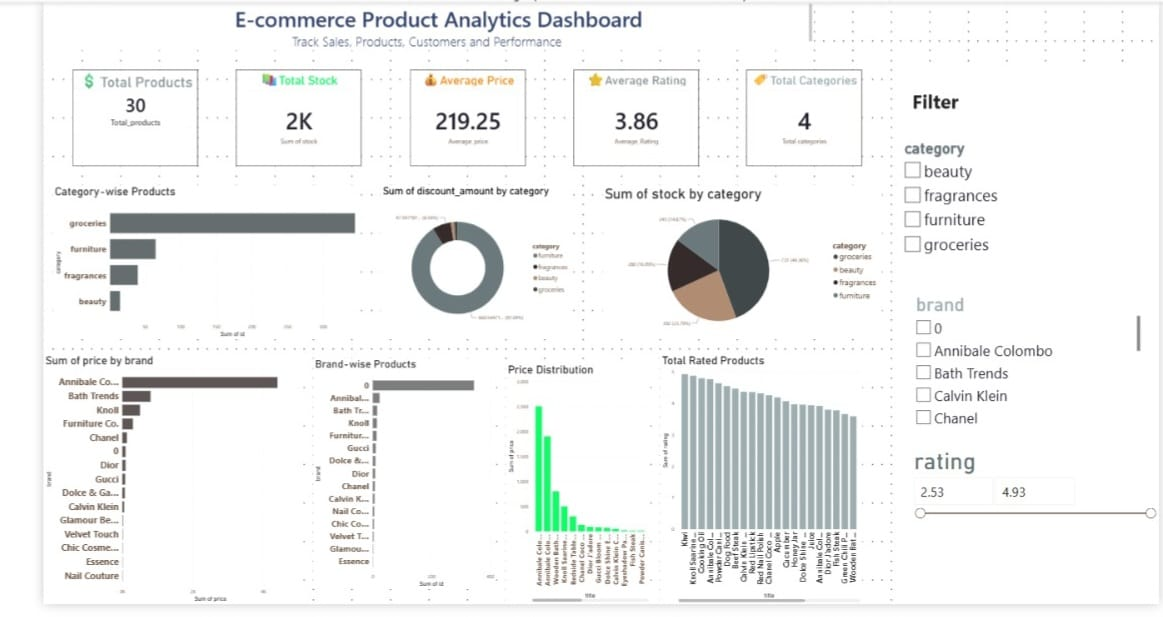

The dashboard page shown, as its layout file describes it:
{"tool":"powerbi","page":{"name":"Page 1","canvas":[2780,1500],"ordinal":0},"visuals":[{"type":"clusteredBarChart","title":"Category-wise Products","fields":{"Category":["clean_products.category"],"Y":["Sum(clean_products.id)"]},"box":[24,456,768,384],"z":0},{"type":"clusteredBarChart","title":"Brand-wise Products","fields":{"Category":["clean_products.brand"],"Y":["Sum(clean_products.id)"]},"box":[672,888,456,576],"z":1000},{"type":"clusteredColumnChart","title":"Price Distribution","fields":{"Category":["clean_products.title"],"Y":["Sum(clean_products.price)"]},"box":[1152,900,360,600],"z":2000},{"type":"clusteredColumnChart","title":"Total Rated Products","fields":{"Category":["clean_products.title"],"Y":["Sum(clean_products.rating)"]},"box":[1536,876,504,624],"z":3000},{"type":"textbox","box":[0,0,1920,120],"z":4000},{"type":"cardVisual","title":"🏷️Total Categories","fields":{"Data":["clean_products.Total categories"]},"box":[1752,168,288,240],"z":5000},{"type":"cardVisual","title":"💰Average Price","fields":{"Data":["clean_products.Average_price"]},"box":[912,168,288,240],"z":6000},{"type":"cardVisual","title":"⭐Average Rating","fields":{"Data":["clean_products.Average_Rating"]},"box":[1320,168,312,240],"z":7000},{"type":"cardVisual","title":"📚Total Stock","fields":{"Data":["Sum(clean_products.stock)"]},"box":[480,168,312,240],"z":8000},{"type":"cardVisual","title":"💲Total Products","fields":{"Data":["clean_products.Total_products"]},"box":[72,168,312,240],"z":9000},{"type":"donutChart","fields":{"Category":["clean_products.category"],"Y":["Sum(clean_products.discount_amount)"]},"box":[840,456,480,384],"z":10000},{"type":"pieChart","fields":{"Category":["clean_products.category"],"Y":["Sum(clean_products.stock)"]},"box":[1392,456,696,384],"z":11000},{"type":"clusteredBarChart","fields":{"Category":["clean_products.brand"],"Y":["Sum(clean_products.price)"]},"box":[0,876,648,624],"z":12000},{"type":"textbox","box":[2132,156,648,1344],"z":13000},{"type":"slicer","fields":{"Values":["clean_products.category"]},"box":[2132,336,648,312],"z":14000},{"type":"slicer","fields":{"Values":["clean_products.brand"]},"box":[2160,720,576,336],"z":15000},{"type":"slicer","fields":{"Values":["clean_products.rating"]},"box":[2156,1104,624,384],"z":16000}]}

Visuals, with their boxes in screenshot pixels (x1, y1, x2, y2), scaled from the page's 2780x1500 canvas onto the 1163x617 screenshot:
"Category-wise Products" clusteredBarChart: BBox(10, 188, 331, 346)
"Brand-wise Products" clusteredBarChart: BBox(281, 365, 472, 602)
"Price Distribution" clusteredColumnChart: BBox(482, 370, 633, 616)
"Total Rated Products" clusteredColumnChart: BBox(643, 360, 853, 616)
textbox: BBox(0, 0, 803, 49)
"🏷️Total Categories" cardVisual: BBox(733, 69, 853, 168)
"💰Average Price" cardVisual: BBox(382, 69, 502, 168)
"⭐Average Rating" cardVisual: BBox(552, 69, 683, 168)
"📚Total Stock" cardVisual: BBox(201, 69, 331, 168)
"💲Total Products" cardVisual: BBox(30, 69, 161, 168)
donutChart - clean_products.category x Sum(clean_products.discount_amount): BBox(351, 188, 552, 346)
pieChart - clean_products.category x Sum(clean_products.stock): BBox(582, 188, 874, 346)
clusteredBarChart - clean_products.brand x Sum(clean_products.price): BBox(0, 360, 271, 616)
textbox: BBox(892, 64, 1162, 616)
slicer - clean_products.category: BBox(892, 138, 1162, 267)
slicer - clean_products.brand: BBox(904, 296, 1145, 434)
slicer - clean_products.rating: BBox(902, 454, 1162, 612)
